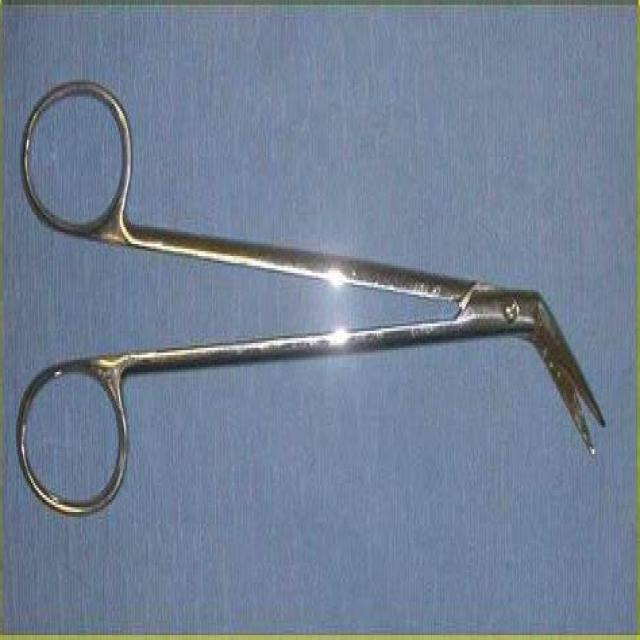Potts: (9, 66, 606, 544)
